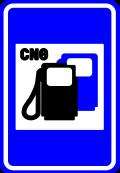Petrol Pump- Gas Station: (11, 37, 108, 141)
